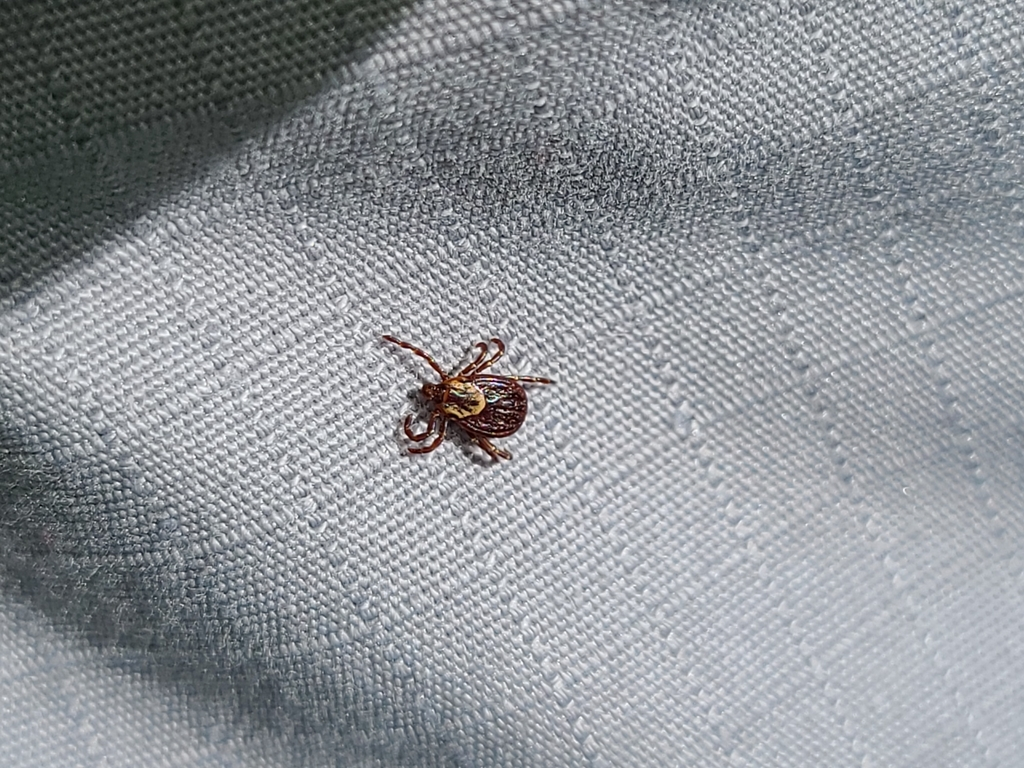garrapata: (381, 323, 560, 474)
